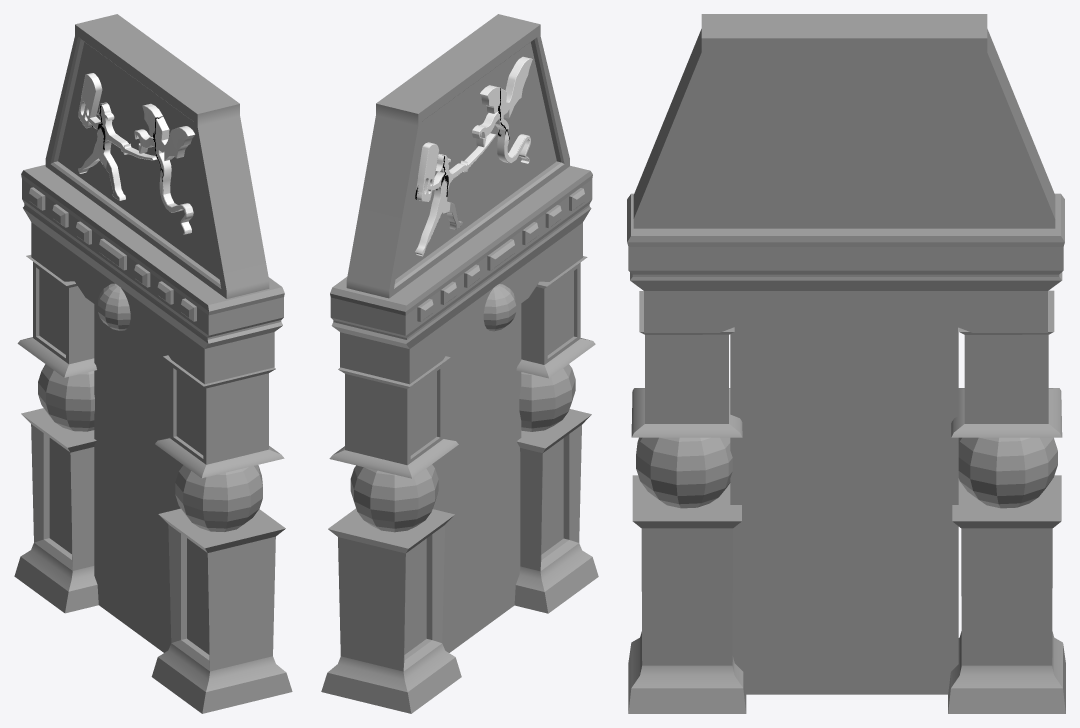
The model's file is Rhythm_Door_Draft.fbx.
3 renders of one model, left to right at view 1: azimuth 30°, elevation 25°; view 2: azimuth 150°, elevation 25°; view 3: azimuth 270°, elevation 25°, orthographic. The views are drawn at different scales.
Visible parts, largest first — view 1: pasted__polySurface3; view 2: pasted__polySurface3; view 3: pasted__polySurface3.
Boxes of the visible parts, x1,y1,x2,y2 form: pasted__polySurface3: (14, 14, 292, 713); pasted__polySurface3: (321, 14, 598, 713); pasted__polySurface3: (627, 14, 1065, 713).
Size of the model in its own units: 0.5739 by 3.21 by 1.92.
Materials: 2 (1 with a texture image).
